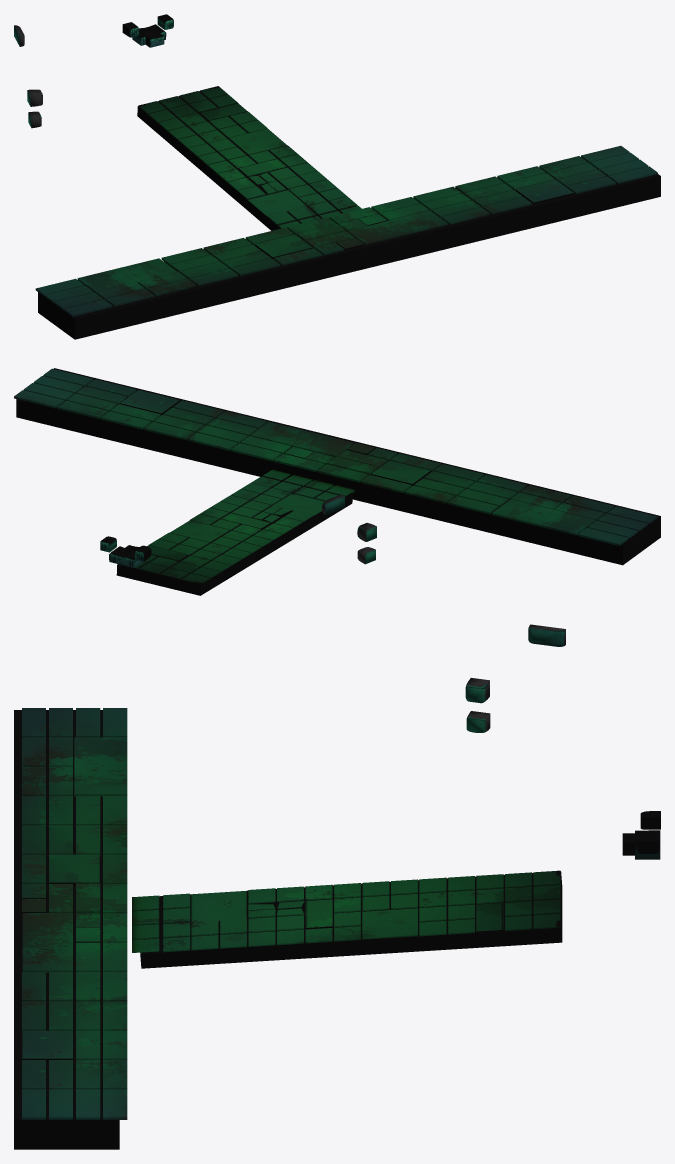
File: EXTRA_Objects_Fills.fbx
3 renders of one model, top to bottom at view 1: azimuth 30°, elevation 25°; view 2: azimuth 150°, elevation 25°; view 3: azimuth 270°, elevation 25°, orthographic. The views are drawn at different scales.
Parts seen in each view (by area): view 1: Cube.003, Cube, Cube.004, Cube.134, Extra_Bricks.001; view 2: Cube.003, Cube, Cube.004, Cube.134, Extra_Bricks.001, Extra_Bricks; view 3: Cube.003, Cube.004, Cube, Cube.134, Extra_Bricks.
Boxes of the visible parts, x1,y1,x2,y2 form: Cube.003: (35,145,657,316); Cube: (38,159,660,339); Cube.004: (138,86,361,228); Cube.134: (137,91,357,230); Extra_Bricks.001: (132,24,166,47); Cube.003: (14,368,657,545); Cube: (16,368,660,565); Cube.004: (117,469,355,584); Cube.134: (116,475,352,595); Extra_Bricks.001: (109,545,143,567); Extra_Bricks: (100,536,151,561); Cube.003: (22,708,127,1119); Cube.004: (132,870,560,952); Cube: (14,710,119,1149); Cube.134: (140,871,562,968); Extra_Bricks: (638,811,660,853).
Size of the model in its own units: 2572 by 593 by 1715.
5 materials, 3 textured.
